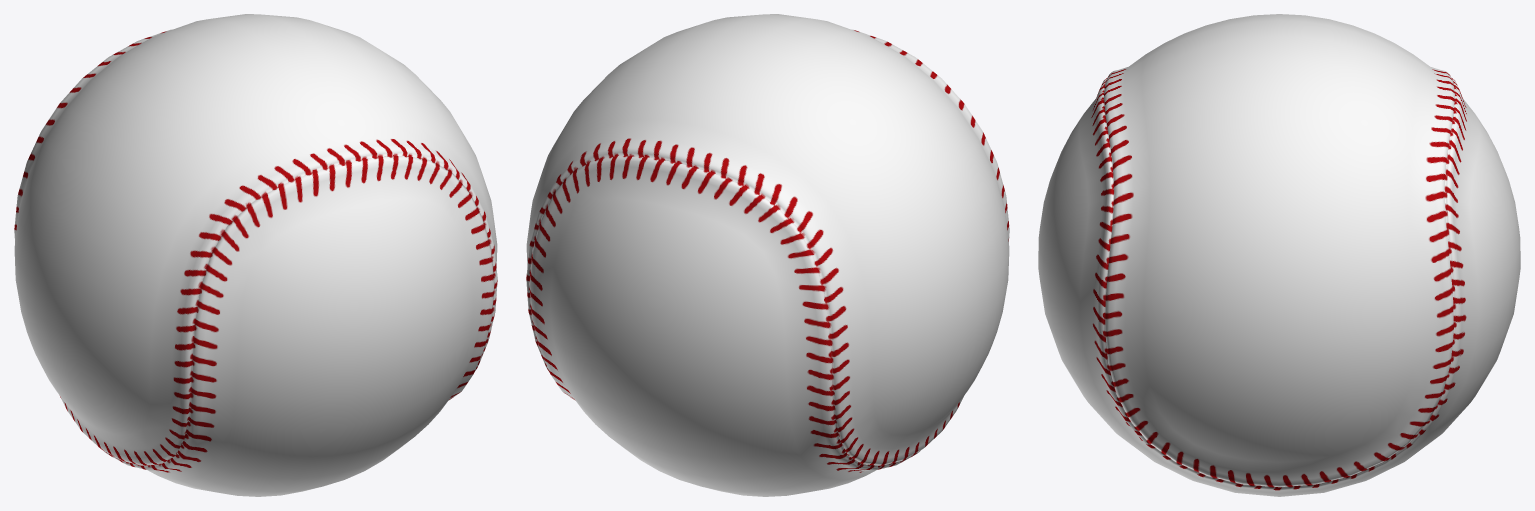
File: kosue4554-baseball-4601.glb
The picture shows the model from 3 angles, left to right: view 1: azimuth 30°, elevation 25°; view 2: azimuth 150°, elevation 25°; view 3: azimuth 270°, elevation 25°; orthographic projection.
Visible parts, largest first — view 1: Baseball_ball; view 2: Baseball_ball; view 3: Baseball_ball.
Boxes of the visible parts, left/top/right/bottom form: Baseball_ball: left=14, top=14, right=497, bottom=496; Baseball_ball: left=526, top=14, right=1009, bottom=496; Baseball_ball: left=1038, top=14, right=1520, bottom=496.
Size of the model in its own units: 0.075 by 0.0751 by 0.075.
1 material, 1 textured.
